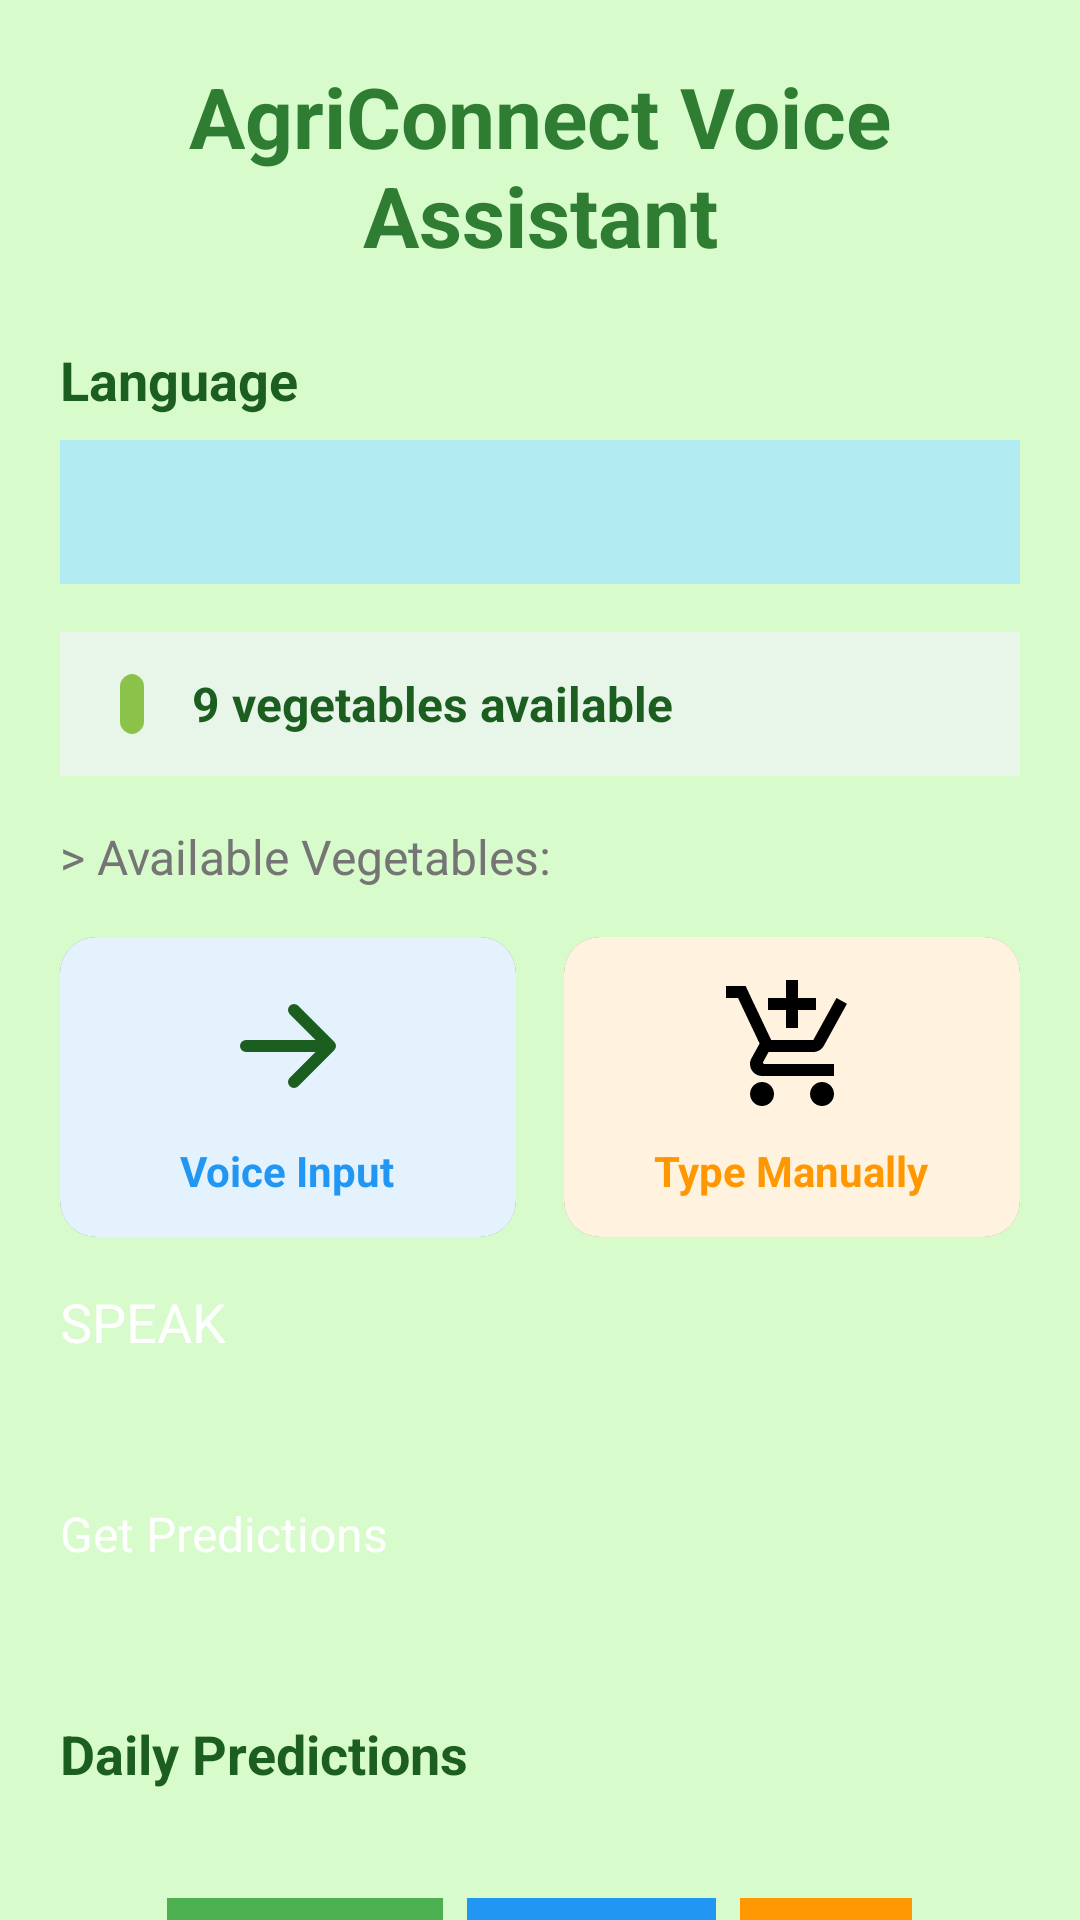

Screen size 1080*1920. Icon name, then its center in pixels as (x=x, y=y):
arrow right: (x=288, y=1046)
market: (x=786, y=1043)
